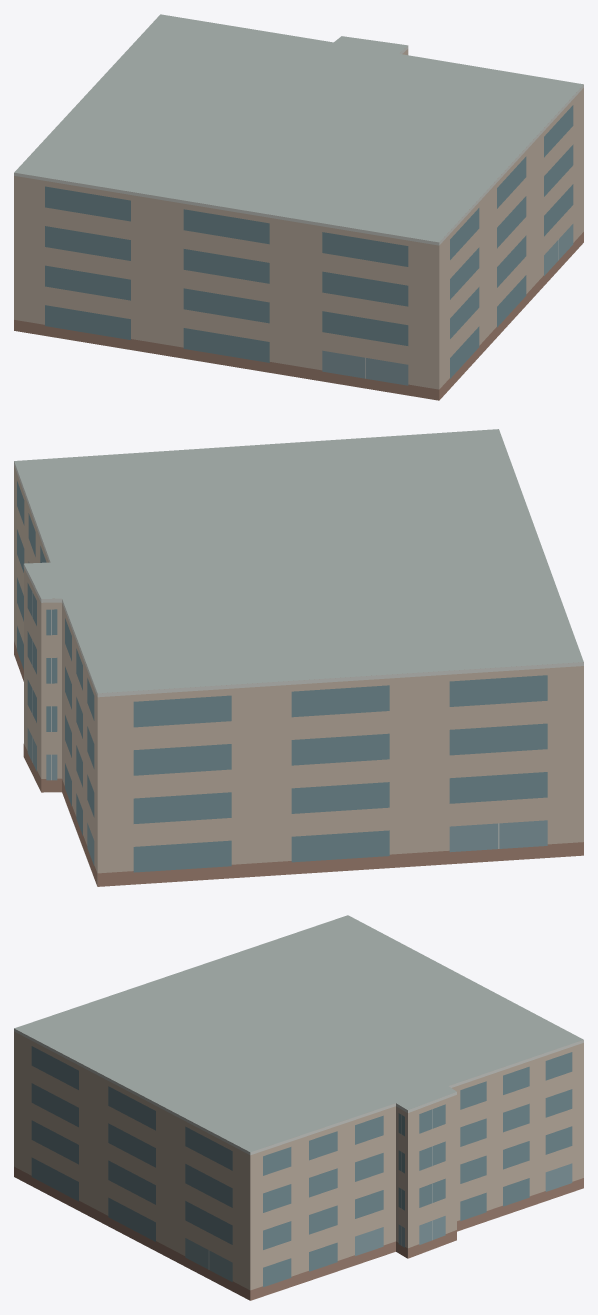
Rendered from survey-upis-32469862.glb.
3 renders of one model, top to bottom at view 1: azimuth 30°, elevation 25°; view 2: azimuth 150°, elevation 25°; view 3: azimuth 270°, elevation 25°, orthographic. The views are drawn at different scales.
Parts seen in each view (by area): view 1: survey-upis-32469862.tmp; view 2: survey-upis-32469862.tmp; view 3: survey-upis-32469862.tmp.
Part boxes in pixels (box(x1,y1,x2,y2)): survey-upis-32469862.tmp: box(14, 14, 583, 400); survey-upis-32469862.tmp: box(14, 429, 583, 886); survey-upis-32469862.tmp: box(14, 915, 583, 1300).
Size of the model in its own units: 41.81 by 12.2 by 42.44.
